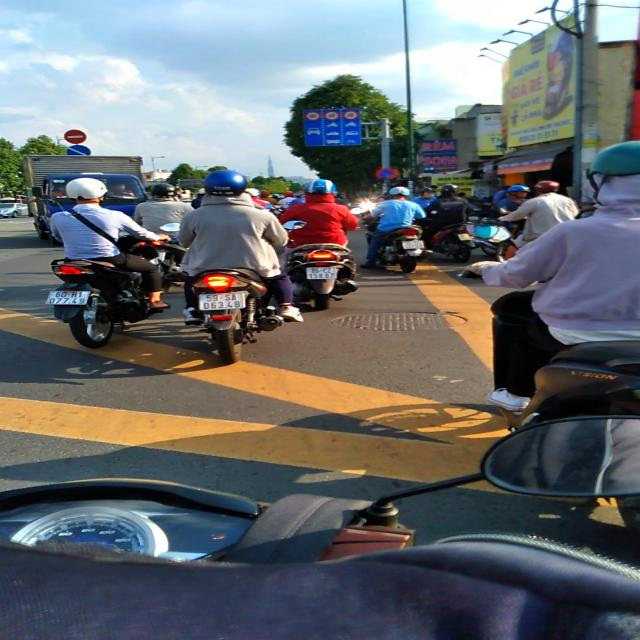Cam do: (375, 168, 397, 180)
Cam nguoc chieu: (63, 129, 87, 144)
Hieu lenh: (66, 145, 92, 160)
Toc do toi da: (323, 110, 340, 120), (342, 110, 358, 120), (305, 111, 320, 121)
